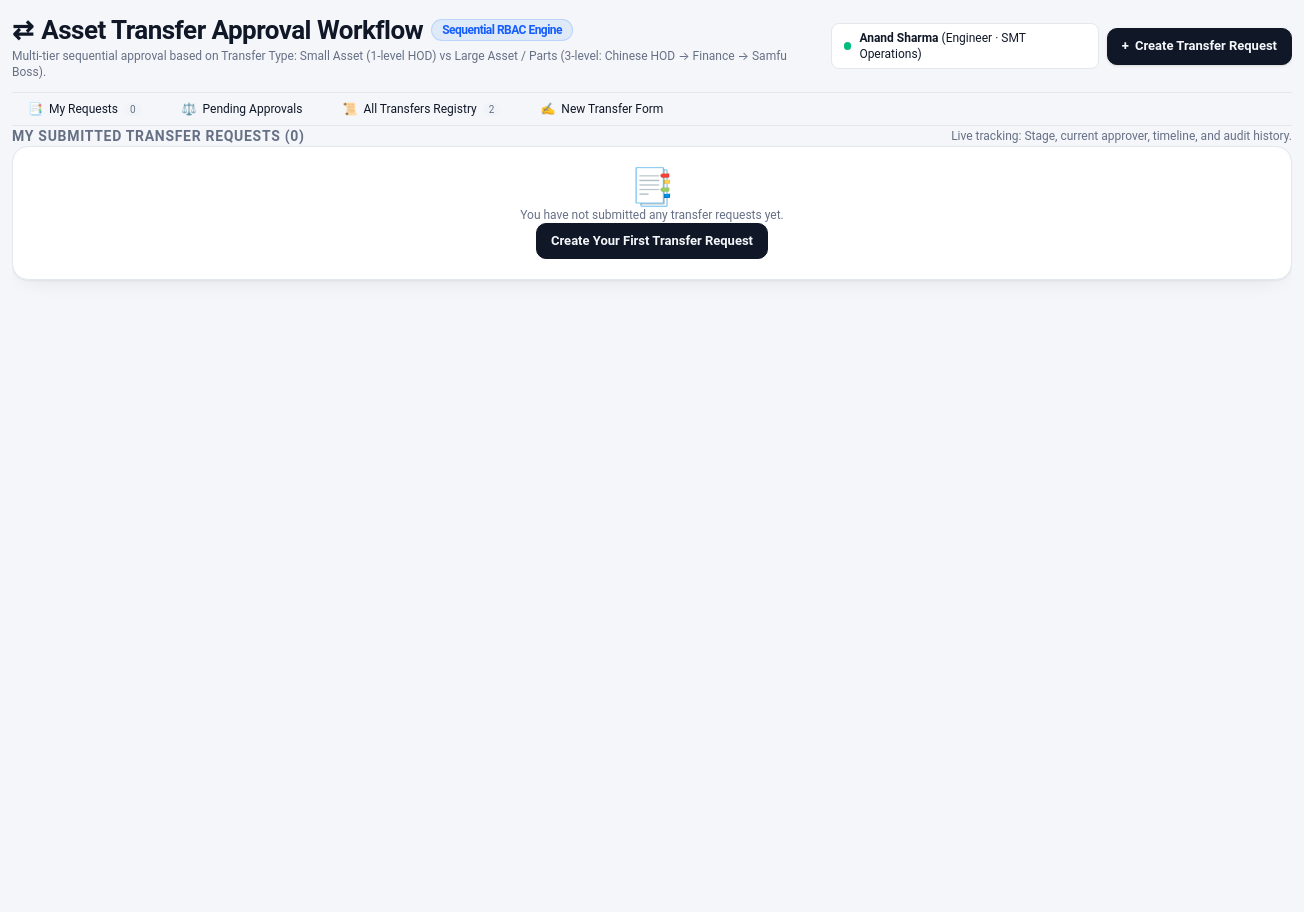
Test case: Asset Transfer Approval Workflow (RBAC & Sequential Stage Invariants) › Requirement 1: Small Asset Transfer requires 1 approval only (HOD)
This screenshot has width=1304, height=912.
# Switch to New Transfer Form tab
Click the button "✍️ New Transfer Form". click: (602, 109)
box: [524,93,679,125]
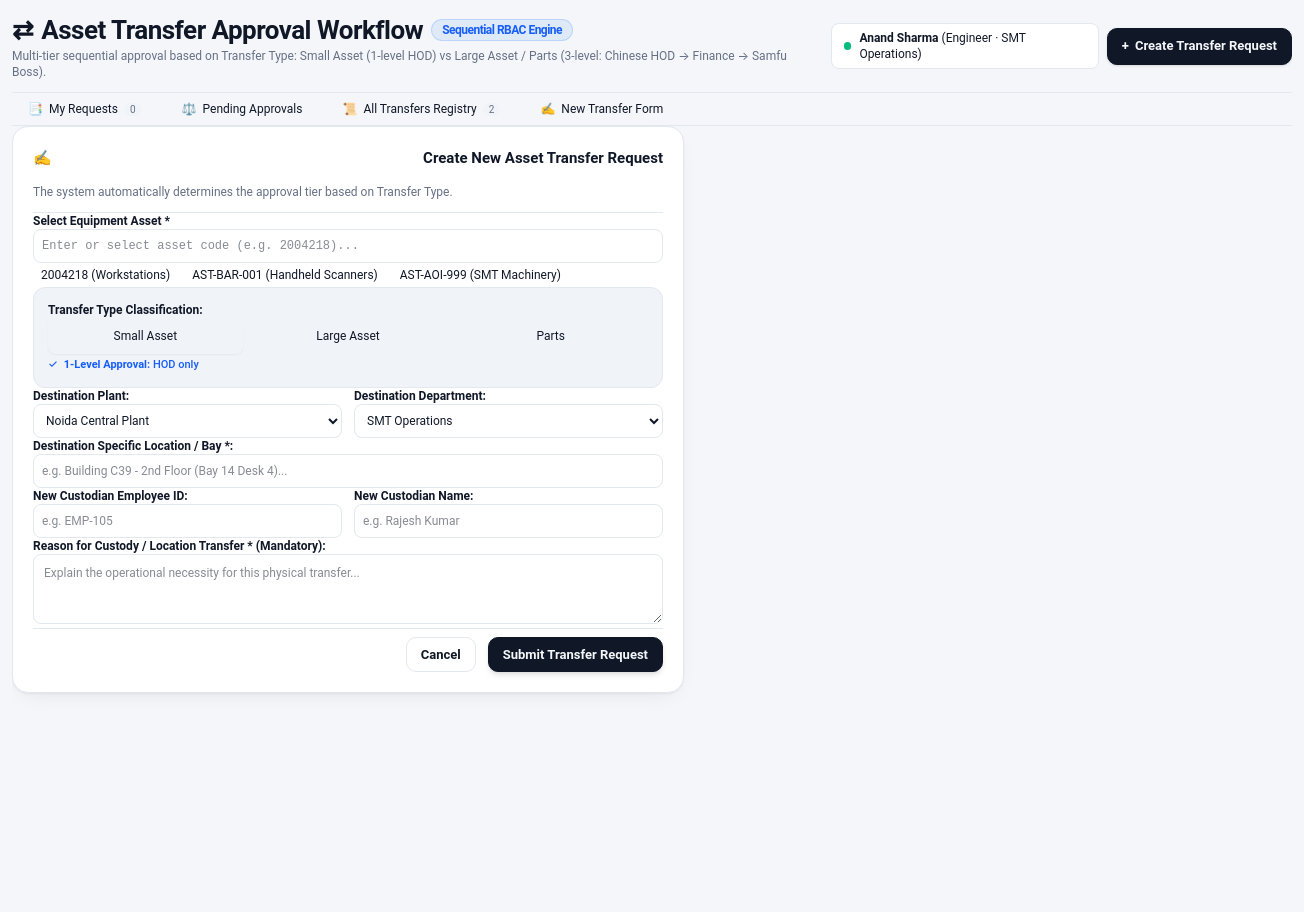
# Select Small Asset chip
Click the button "AST-BAR-001 (Handheld Scanners)". click: (285, 275)
box: [184,263,386,287]
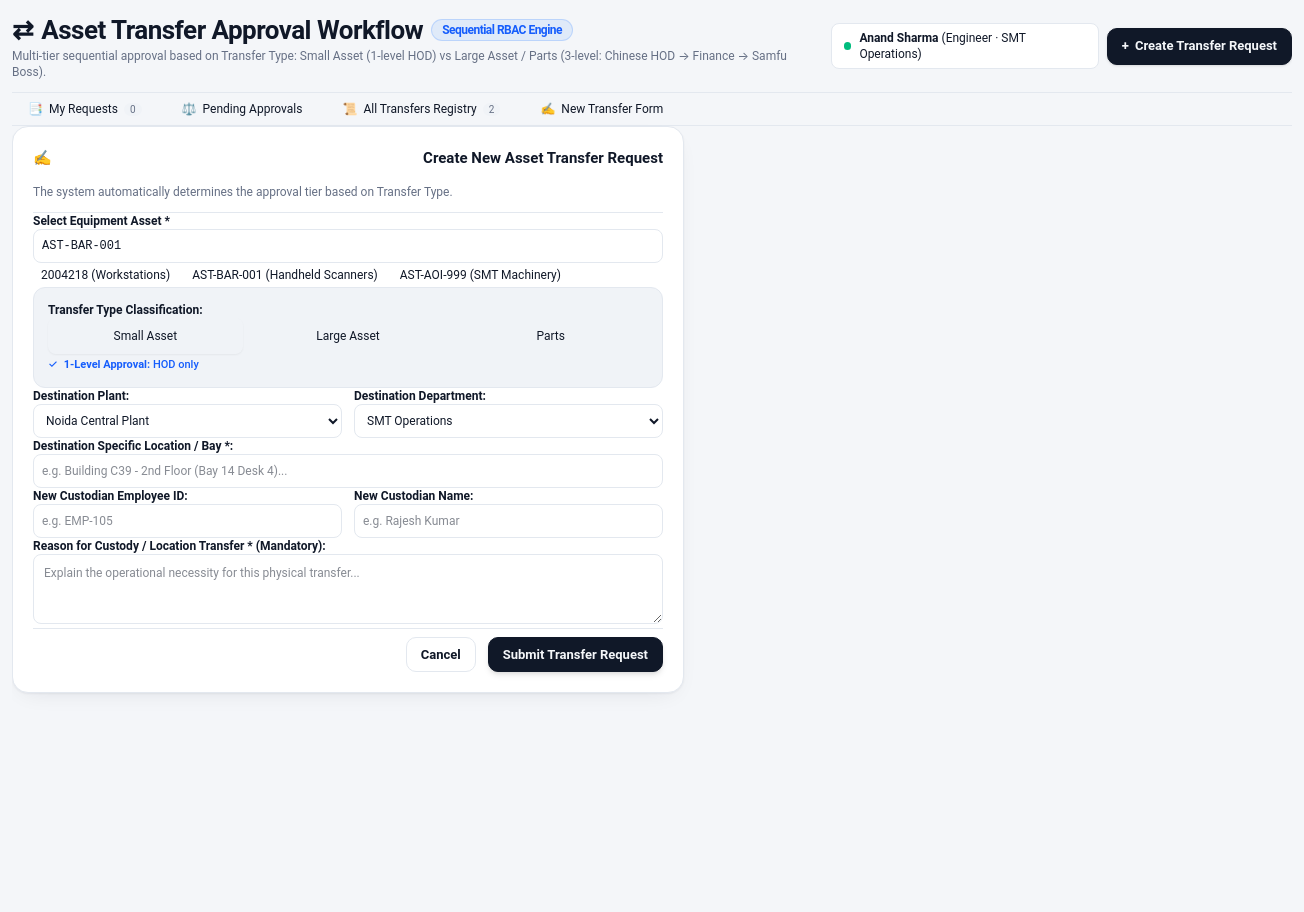
Expected: the text "1-Level Approval:" is shown, [64,358,150,371]
Expected: the text "1-Level Approval: HOD only" is shown, [64,358,199,373]
# Fill mandatory destination fields
Type "D198-1F Quality Room" into the field with placeholder "e.g. Building C39 - 2nd Floor (Bay 14 Desk 4)...". click: (348, 470)
box: [33,454,663,488]
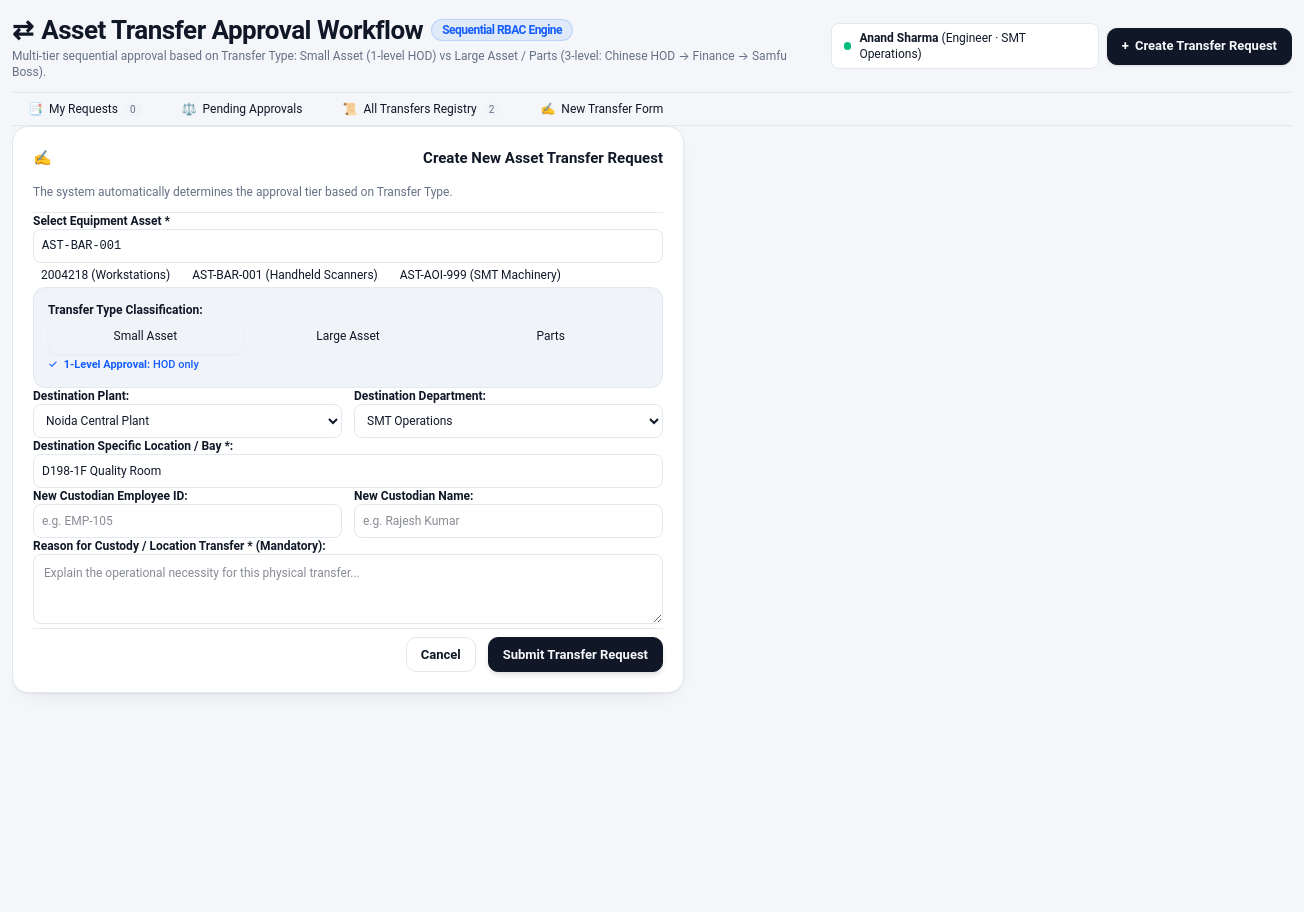
Replace the text in the text box with placeholder "Explain the operational necessity" with "Repositioning scanner for QC audit". click: (348, 588)
box: [33,554,663,624]
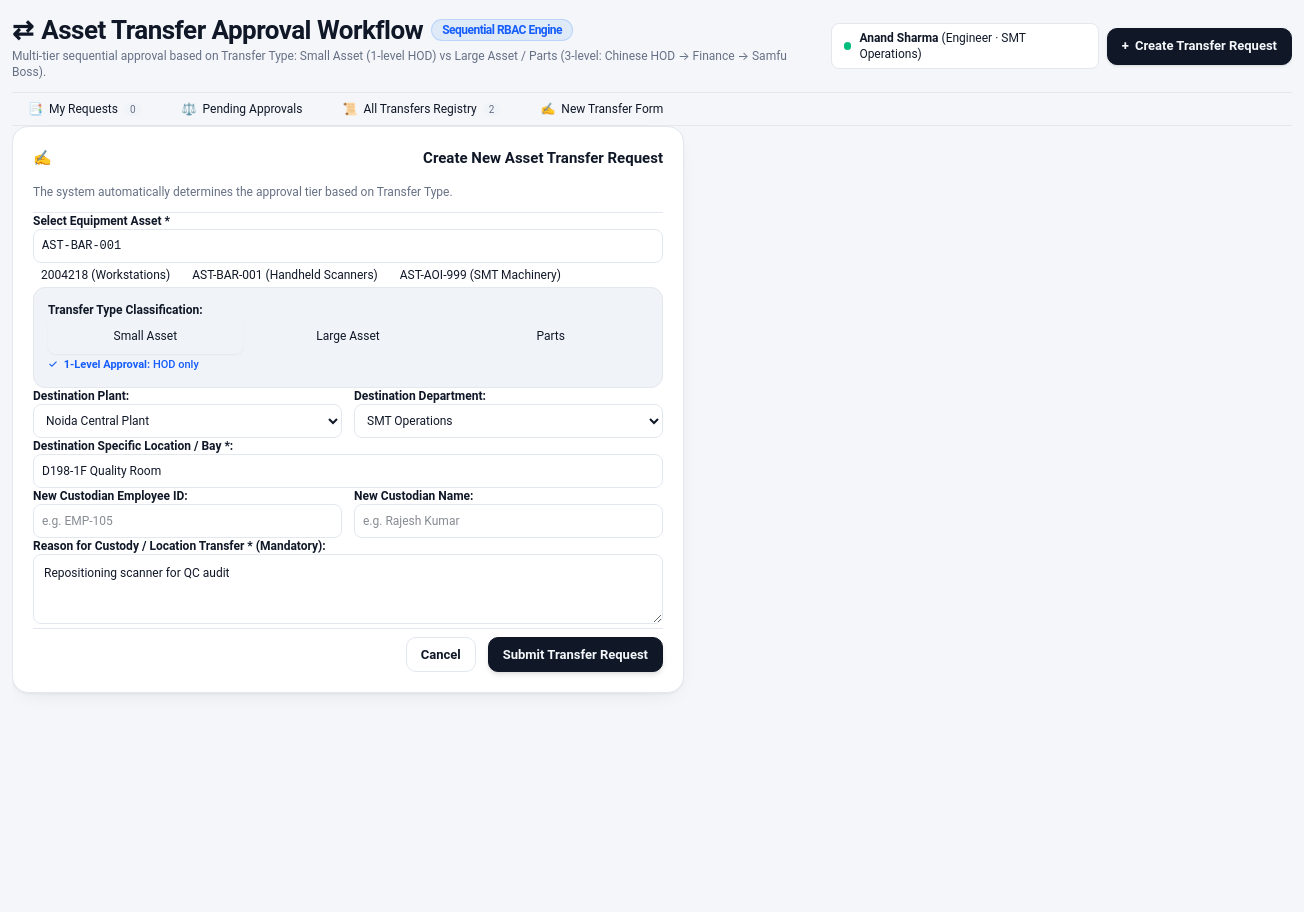
# Submit transfer request
Click the button "Submit Transfer Request". click: (575, 654)
box: [488,636,663,672]
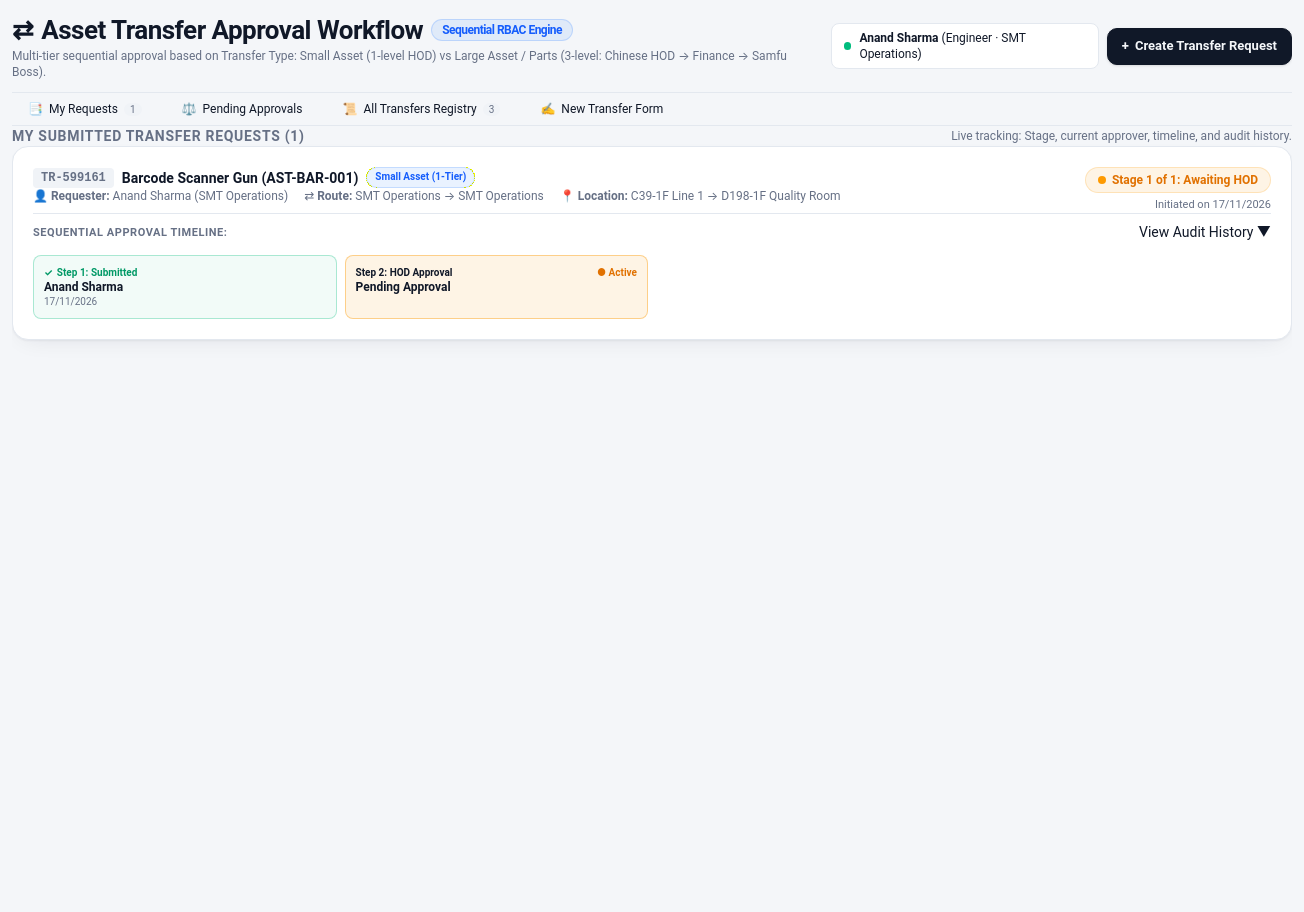
Expected: the text "Stage 1 of 1: Awaiting HOD" is shown, [1112,172,1258,188]
